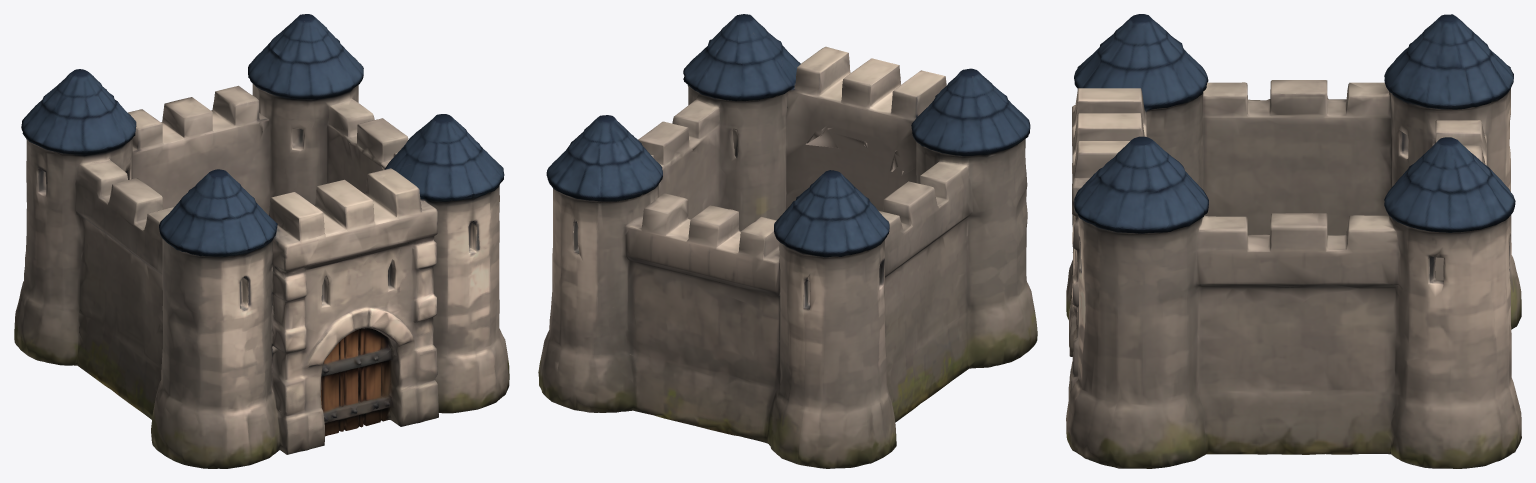
File: castle_a.glb
The picture shows the model from 3 angles, left to right: view 1: azimuth 30°, elevation 25°; view 2: azimuth 150°, elevation 25°; view 3: azimuth 270°, elevation 25°; orthographic projection. The views are drawn at different scales.
Visible parts, largest first — view 1: geometry_0.001; view 2: geometry_0.001; view 3: geometry_0.001.
Boxes of the visible parts, x1,y1,x2,y2 form: geometry_0.001: (14, 14, 509, 468); geometry_0.001: (538, 14, 1037, 468); geometry_0.001: (1066, 14, 1521, 468).
Bounding box in the file's own units: 1.9 × 1.44 × 1.99.
Materials: 1 (1 with a texture image).
